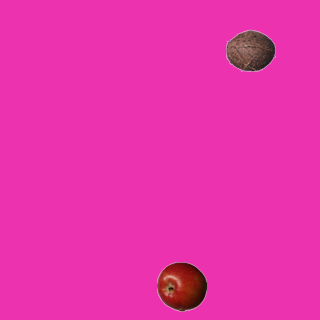Apple Braeburn: (156, 261, 206, 311)
Cocos: (225, 25, 275, 75)
